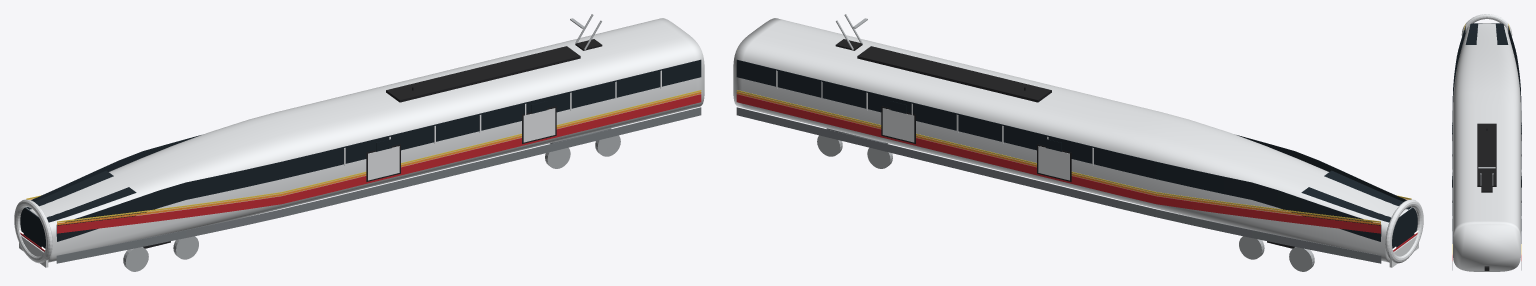
The model's file is cr400af-bs-head-lod-v001.glb.
The picture shows the model from 3 angles, left to right: view 1: azimuth 30°, elevation 25°; view 2: azimuth 150°, elevation 25°; view 3: azimuth 270°, elevation 25°; orthographic projection. The views are drawn at different scales.
Parts seen in each view (by area): view 1: GEO-headcar-lod, GEO-nose_ring, GEO-door_-1_5.6, GEO-door_-1_-0.6; view 2: GEO-headcar-lod, GEO-nose_ring, GEO-door_1_5.6, GEO-door_1_-0.6; view 3: GEO-headcar-lod, GEO-nose_ring.
Boxes of the visible parts, x1,y1,x2,y2 form: GEO-headcar-lod: (19, 14, 704, 271); GEO-nose_ring: (14, 199, 52, 263); GEO-door_-1_5.6: (523, 108, 555, 142); GEO-door_-1_-0.6: (368, 146, 399, 180); GEO-headcar-lod: (733, 14, 1418, 271); GEO-nose_ring: (1385, 199, 1423, 263); GEO-door_1_5.6: (882, 108, 914, 142); GEO-door_1_-0.6: (1038, 146, 1069, 180); GEO-headcar-lod: (1452, 23, 1521, 271); GEO-nose_ring: (1461, 14, 1512, 36).
Size of the model in its own units: 26.02 by 4.84 by 3.44.
